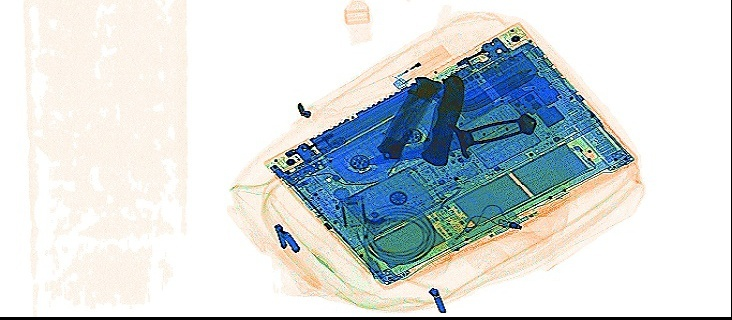knife: (365, 111, 537, 162), (373, 74, 441, 159), (417, 66, 462, 163)
lighter: (383, 37, 454, 91)
